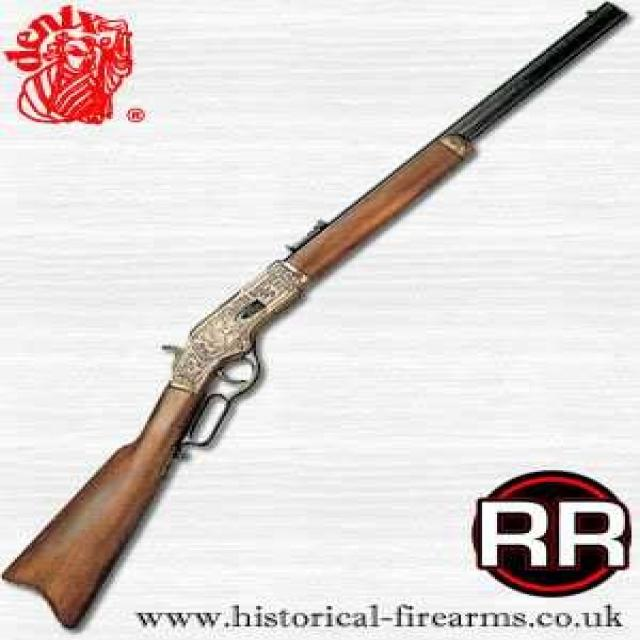heavyweapon: (1, 1, 639, 627)
